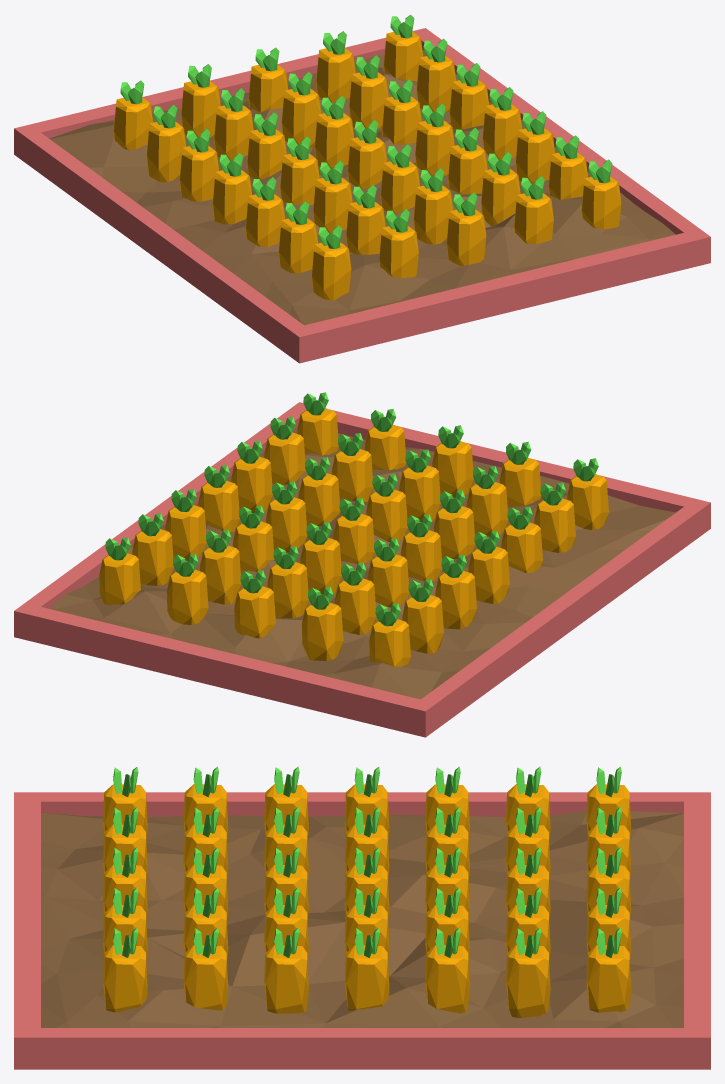
Rendered from huertoRegado.fbx.
3 views of the same model, one above another, from view 1: azimuth 30°, elevation 25°; view 2: azimuth 150°, elevation 25°; view 3: azimuth 270°, elevation 25° (orthographic). The views are drawn at different scales.
Parts seen in each view (by area): view 1: Cube.015; view 2: Cube.015; view 3: Cube.015.
Boxes of the visible parts, bbox=[...] form: Cube.015: bbox=[14, 14, 710, 363]; Cube.015: bbox=[14, 392, 710, 737]; Cube.015: bbox=[14, 766, 710, 1069].
Bounding box in the file's own units: 817 × 178 × 982.
